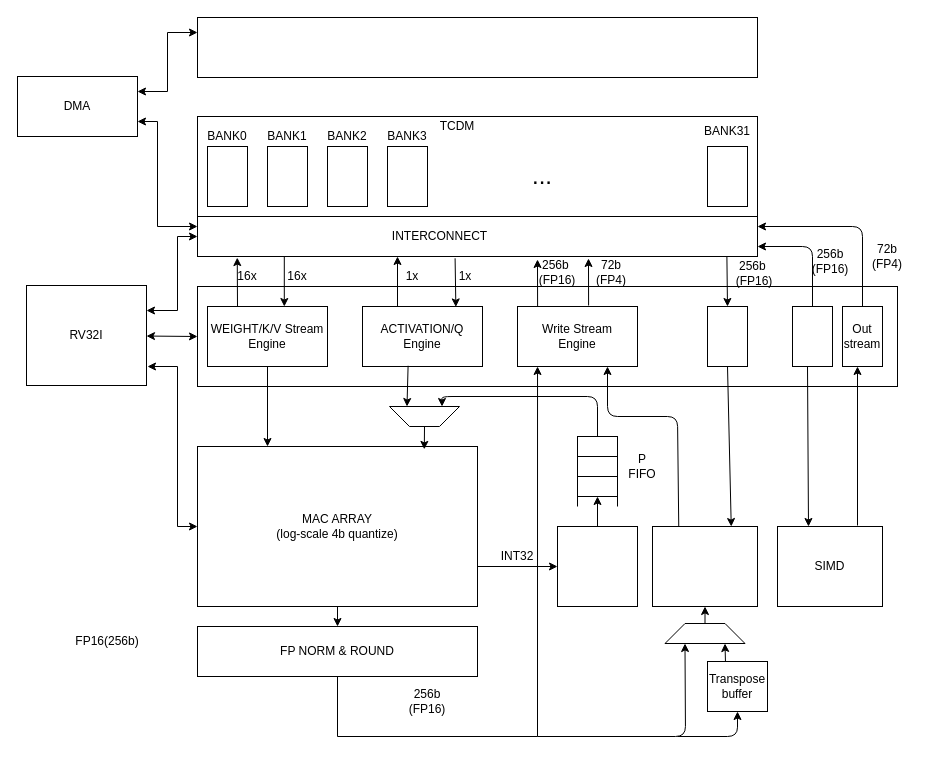
Some shapes in this 925 by 762 pixel diagram are drawn without their labels. The centre of each missing label's shape, as x and y in pixels:
"DDR SDRAM" goes at (477,47).
"In stream" goes at (812,336).
"LOG-QUANTIZER" goes at (705,566).
"Read stream" goes at (727,336).
"SOFTMAX +RESCALE" goes at (597,566).
